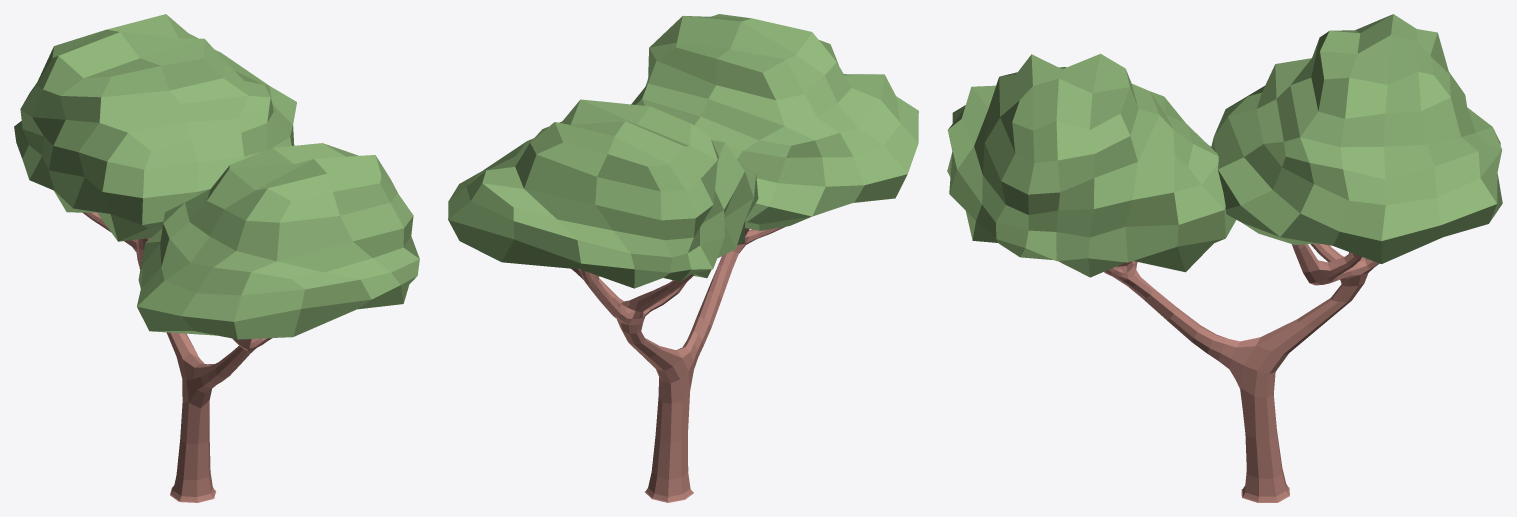
The model's file is tree_1.glb.
3 renders of one model, left to right at view 1: azimuth 30°, elevation 25°; view 2: azimuth 150°, elevation 25°; view 3: azimuth 270°, elevation 25°, orthographic. The views are drawn at different scales.
Parts seen in each view (by area): view 1: CommonTree_1; view 2: CommonTree_1; view 3: CommonTree_1.
Part boxes in pixels (box(x1,y1,x2,y2)): CommonTree_1: box(14, 14, 419, 502); CommonTree_1: box(448, 14, 918, 502); CommonTree_1: box(947, 14, 1502, 502).
Size of the model in its own units: 1.89 by 2.48 by 2.77.
